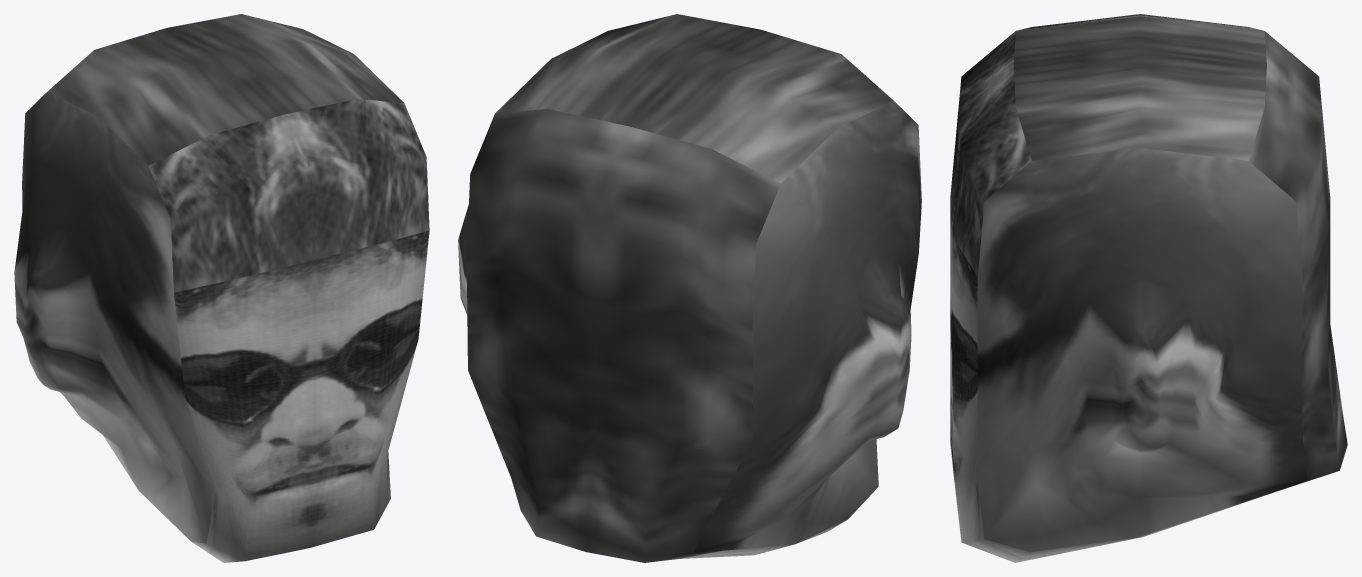
File: errormod.glb
3 views of the same model, side by side, from view 1: azimuth 30°, elevation 25°; view 2: azimuth 150°, elevation 25°; view 3: azimuth 270°, elevation 25° (orthographic). The views are drawn at different scales.
Parts seen in each view (by area): view 1: Cube; view 2: Cube; view 3: Cube.
Boxes of the visible parts, <box> form: Cube: <box>14,14,429,562</box>; Cube: <box>458,14,921,562</box>; Cube: <box>950,14,1347,562</box>.
Bounding box in the file's own units: 0.2589 × 0.2906 × 0.2159.
2 materials, 2 textured.
